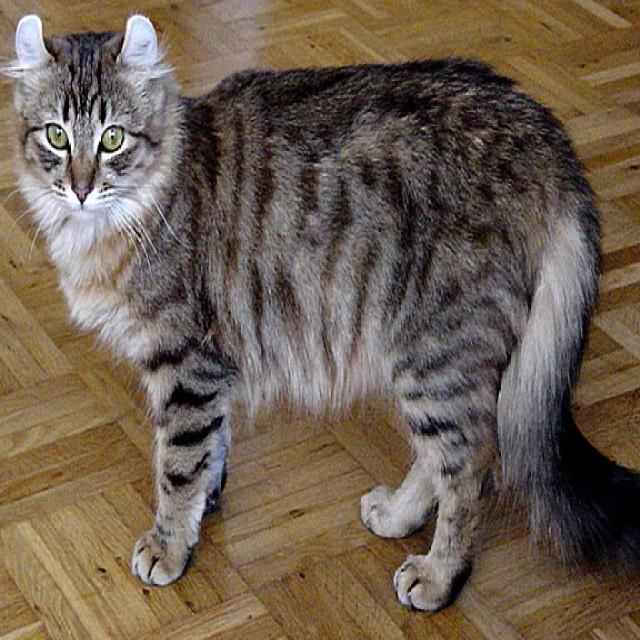American Curl: (4, 6, 640, 617)
